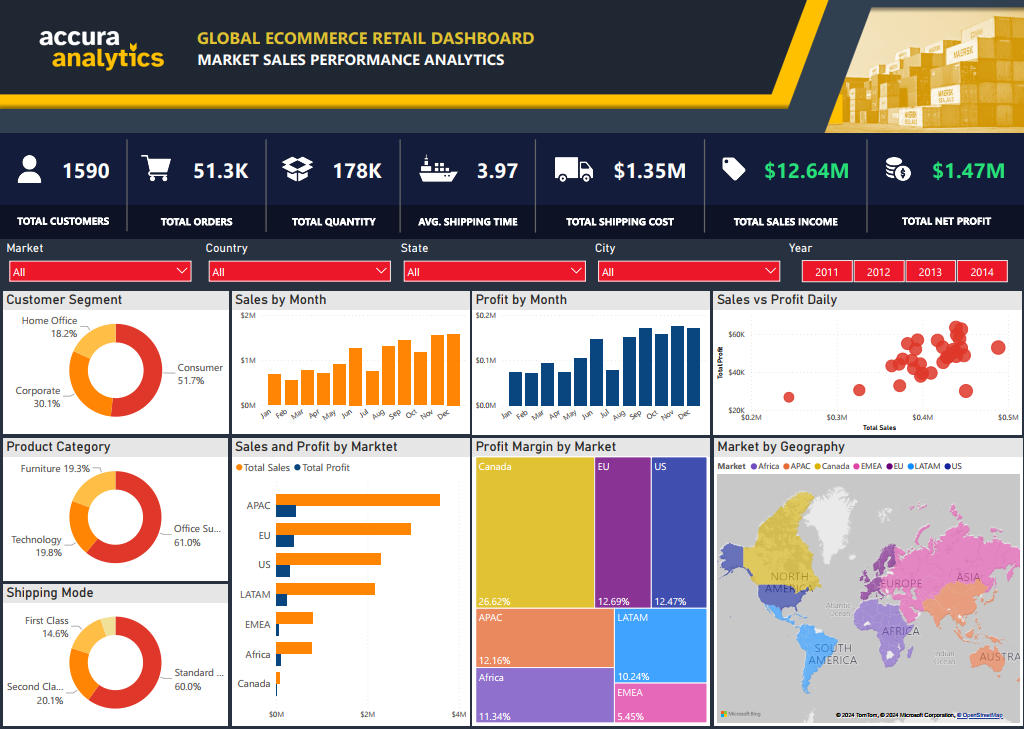

Layout of this report page (visuals, bound fields, positions):
{"tool":"powerbi","page":{"name":"Page 1","canvas":[1664,1170],"ordinal":0},"visuals":[{"type":"image","title":"Wallpaper","box":[1.4,0,1662.9,227.1],"z":0},{"type":"shape","title":"Background 3","box":[11.8,376.4,1643.6,793.6],"z":1000},{"type":"shape","title":"Background 2","box":[12,317,1643,68],"z":2000},{"type":"shape","title":"Background 1","box":[12,216.7,1643.3,114.7],"z":3000},{"type":"image","title":"Logo","box":[11.4,24.5,393,125],"z":4000},{"type":"image","title":"User Icon","box":[34.3,246.7,51.4,52.9],"z":5000},{"type":"image","title":"Cart Icon","box":[234.3,246.7,57.1,57.1],"z":6000},{"type":"image","title":"Package Icon","box":[460,245.3,57.1,57.1],"z":7000},{"type":"image","title":"Ship Icon","box":[678.6,236.7,70,70],"z":8000},{"type":"image","title":"Truck Icon","box":[895.7,239.6,70,70],"z":9000},{"type":"image","title":"Sales Icon","box":[1161.4,247.1,51.4,52.9],"z":10000},{"type":"image","title":"Profit Icon","box":[1425.7,249.6,48.6,48.6],"z":11000},{"type":"card","fields":{"Values":["Key Measures.Total Customers"]},"box":[70,240,160,70],"z":12000},{"type":"card","fields":{"Values":["Key Measures.Total Orders"]},"box":[285.7,240,160,70],"z":13000},{"type":"card","fields":{"Values":["Key Measures.Total Quantity"]},"box":[504.3,240,160,70],"z":14000},{"type":"card","fields":{"Values":["Key Measures.Avg Shipping Time"]},"box":[728.6,240,160,70],"z":15000},{"type":"card","fields":{"Values":["Key Measures.Total Shipping Cost"]},"box":[972.9,240,160,70],"z":16000},{"type":"card","fields":{"Values":["Key Measures.Total Sales"]},"box":[1224.3,240,160,70],"z":17000},{"type":"card","fields":{"Values":["Key Measures.Total Profits"]},"box":[1482.9,240,160,70],"z":18000},{"type":"textbox","box":[11.8,341.4,204.1,40],"z":19000},{"type":"textbox","box":[323.3,40,703.3,56.7],"z":20000},{"type":"textbox","box":[323.9,76.3,587.5,42.5],"z":21000},{"type":"textbox","box":[215.7,341.5,222.9,40],"z":22000},{"type":"textbox","box":[441.4,341.5,211.4,40],"z":23000},{"type":"textbox","box":[652.9,341.5,217.1,40],"z":24000},{"type":"textbox","box":[870,341.5,270,40],"z":25000},{"type":"textbox","box":[1400,341.4,255,40],"z":26000},{"type":"textbox","box":[1140,341.5,260,40],"z":27000},{"type":"shape","box":[185.7,226.1,60,147.5],"z":28000},{"type":"shape","box":[408,226.1,61.4,148.6],"z":29000},{"type":"shape","box":[622.3,226.1,61.4,150],"z":30000},{"type":"shape","box":[838,226.1,62.9,150],"z":31000},{"type":"shape","box":[1109.5,226.1,61.4,150],"z":32000},{"type":"shape","box":[1368,226.1,64.3,150],"z":33000},{"type":"donutChart","title":"Customer Segment","fields":{"Y":["Key Measures.Total Orders"],"Category":["Global Superstore.Segment"]},"box":[18,470,360,228.6],"z":34000},{"type":"donutChart","title":"Product Category","fields":{"Y":["Key Measures.Total Orders"],"Category":["Global Superstore.Category"]},"box":[18,705.7,359,227.1],"z":35000},{"type":"donutChart","title":"Shipping Mode","fields":{"Y":["Key Measures.Total Orders"],"Category":["Global Superstore.Ship Mode"]},"box":[18,938.5,359,227],"z":36000},{"type":"treemap","title":"Profit Margin by Market","fields":{"Group":["Global Superstore.Market","Global Superstore.Country","Global Superstore.State","Global Superstore.City"],"Values":["Key Measures.Profit Margin"]},"box":[769.4,705.7,380,460],"z":37000},{"type":"clusteredColumnChart","title":"Sales by Month","fields":{"Y":["Key Measures.Total Sales"],"Category":["Global Superstore.Month Name"]},"box":[383.7,469.9,380,228.6],"z":38000},{"type":"clusteredColumnChart","title":"Profit by Month","fields":{"Y":["Key Measures.Total Profits"],"Category":["Global Superstore.Month Name"]},"box":[769.4,469.9,380,230],"z":39000},{"type":"scatterChart","title":"Sales vs Profit Daily","fields":{"X":["Key Measures.Total Sales"],"Y":["Key Measures.Total Profits"],"Size":["Key Measures.Total Sales"],"Category":["Global Superstore.Order Date.Variation.Date Hierarchy.Day"]},"box":[1155.1,469.9,492.9,230],"z":40000},{"type":"clusteredBarChart","title":"Sales and Profit by Marktet","fields":{"Category":["Global Superstore.Market","Global Superstore.Country","Global Superstore.State","Global Superstore.City"],"Y":["Key Measures.Total Sales","Key Measures.Total Profit"]},"box":[383.7,705.7,380,460],"z":41000},{"type":"slicer","title":"Year","fields":{"Values":["Global Superstore.Order Date.Variation.Date Hierarchy.Year"]},"box":[1270,389.4,378.9,72.2],"z":42000},{"type":"slicer","title":"Market","fields":{"Values":["Global Superstore.Market"]},"box":[18.3,389.4,311,75],"z":43000},{"type":"slicer","title":"State","fields":{"Values":["Global Superstore.State"]},"box":[648.6,389.4,311.4,75],"z":44000},{"type":"slicer","title":"Country","fields":{"Values":["Global Superstore.Country"]},"box":[336.7,389.4,311,75],"z":45000},{"type":"slicer","title":"City","fields":{"Values":["Global Superstore.City"]},"box":[960,389.4,311,75],"z":46000},{"type":"filledMap","title":"Market by Geography ","fields":{"Category":["Global Superstore.Country","Global Superstore.City","Global Superstore.State"],"Series":["Global Superstore.Market"]},"box":[1155.7,705.7,492.9,460],"z":47000}]}

Visuals, with their boxes in screenshot pixels (x1, y1, x2, y2), scaled from the page's 1664x1170 canvas onto the 1024x729 screenshot:
"Wallpaper" image: <box>1,0,1023,142</box>
"Background 3" shape: <box>7,235,1019,728</box>
"Background 2" shape: <box>7,198,1018,240</box>
"Background 1" shape: <box>7,135,1019,206</box>
"Logo" image: <box>7,15,249,93</box>
"User Icon" image: <box>21,154,53,187</box>
"Cart Icon" image: <box>144,154,179,189</box>
"Package Icon" image: <box>283,153,318,188</box>
"Ship Icon" image: <box>418,147,461,191</box>
"Truck Icon" image: <box>551,149,594,193</box>
"Sales Icon" image: <box>715,154,746,187</box>
"Profit Icon" image: <box>877,156,907,186</box>
card - Key Measures.Total Customers: <box>43,150,142,193</box>
card - Key Measures.Total Orders: <box>176,150,274,193</box>
card - Key Measures.Total Quantity: <box>310,150,409,193</box>
card - Key Measures.Avg Shipping Time: <box>448,150,547,193</box>
card - Key Measures.Total Shipping Cost: <box>599,150,697,193</box>
card - Key Measures.Total Sales: <box>753,150,852,193</box>
card - Key Measures.Total Profits: <box>913,150,1011,193</box>
textbox: <box>7,213,133,238</box>
textbox: <box>199,25,632,60</box>
textbox: <box>199,48,561,74</box>
textbox: <box>133,213,270,238</box>
textbox: <box>272,213,402,238</box>
textbox: <box>402,213,535,238</box>
textbox: <box>535,213,702,238</box>
textbox: <box>862,213,1018,238</box>
textbox: <box>702,213,862,238</box>
shape: <box>114,141,151,233</box>
shape: <box>251,141,289,233</box>
shape: <box>383,141,421,234</box>
shape: <box>516,141,554,234</box>
shape: <box>683,141,721,234</box>
shape: <box>842,141,881,234</box>
"Customer Segment" donutChart: <box>11,293,233,435</box>
"Product Category" donutChart: <box>11,440,232,581</box>
"Shipping Mode" donutChart: <box>11,585,232,726</box>
"Profit Margin by Market" treemap: <box>473,440,707,726</box>
"Sales by Month" clusteredColumnChart: <box>236,293,470,435</box>
"Profit by Month" clusteredColumnChart: <box>473,293,707,436</box>
"Sales vs Profit Daily" scatterChart: <box>711,293,1014,436</box>
"Sales and Profit by Marktet" clusteredBarChart: <box>236,440,470,726</box>
"Year" slicer: <box>782,243,1015,288</box>
"Market" slicer: <box>11,243,203,289</box>
"State" slicer: <box>399,243,591,289</box>
"Country" slicer: <box>207,243,399,289</box>
"City" slicer: <box>591,243,782,289</box>
"Market by Geography " filledMap: <box>711,440,1015,726</box>
